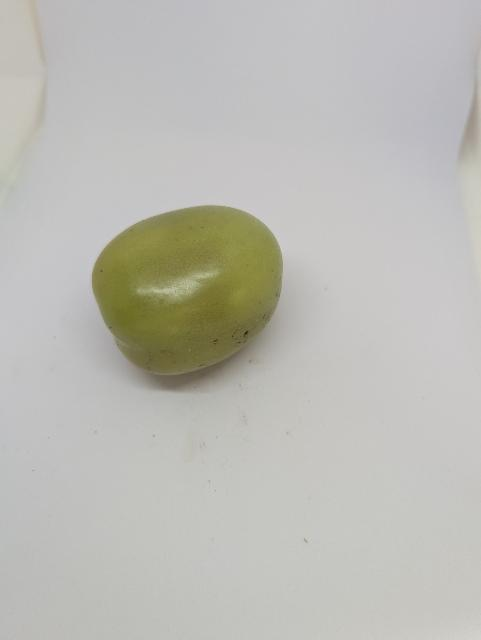green: (89, 199, 298, 392)
